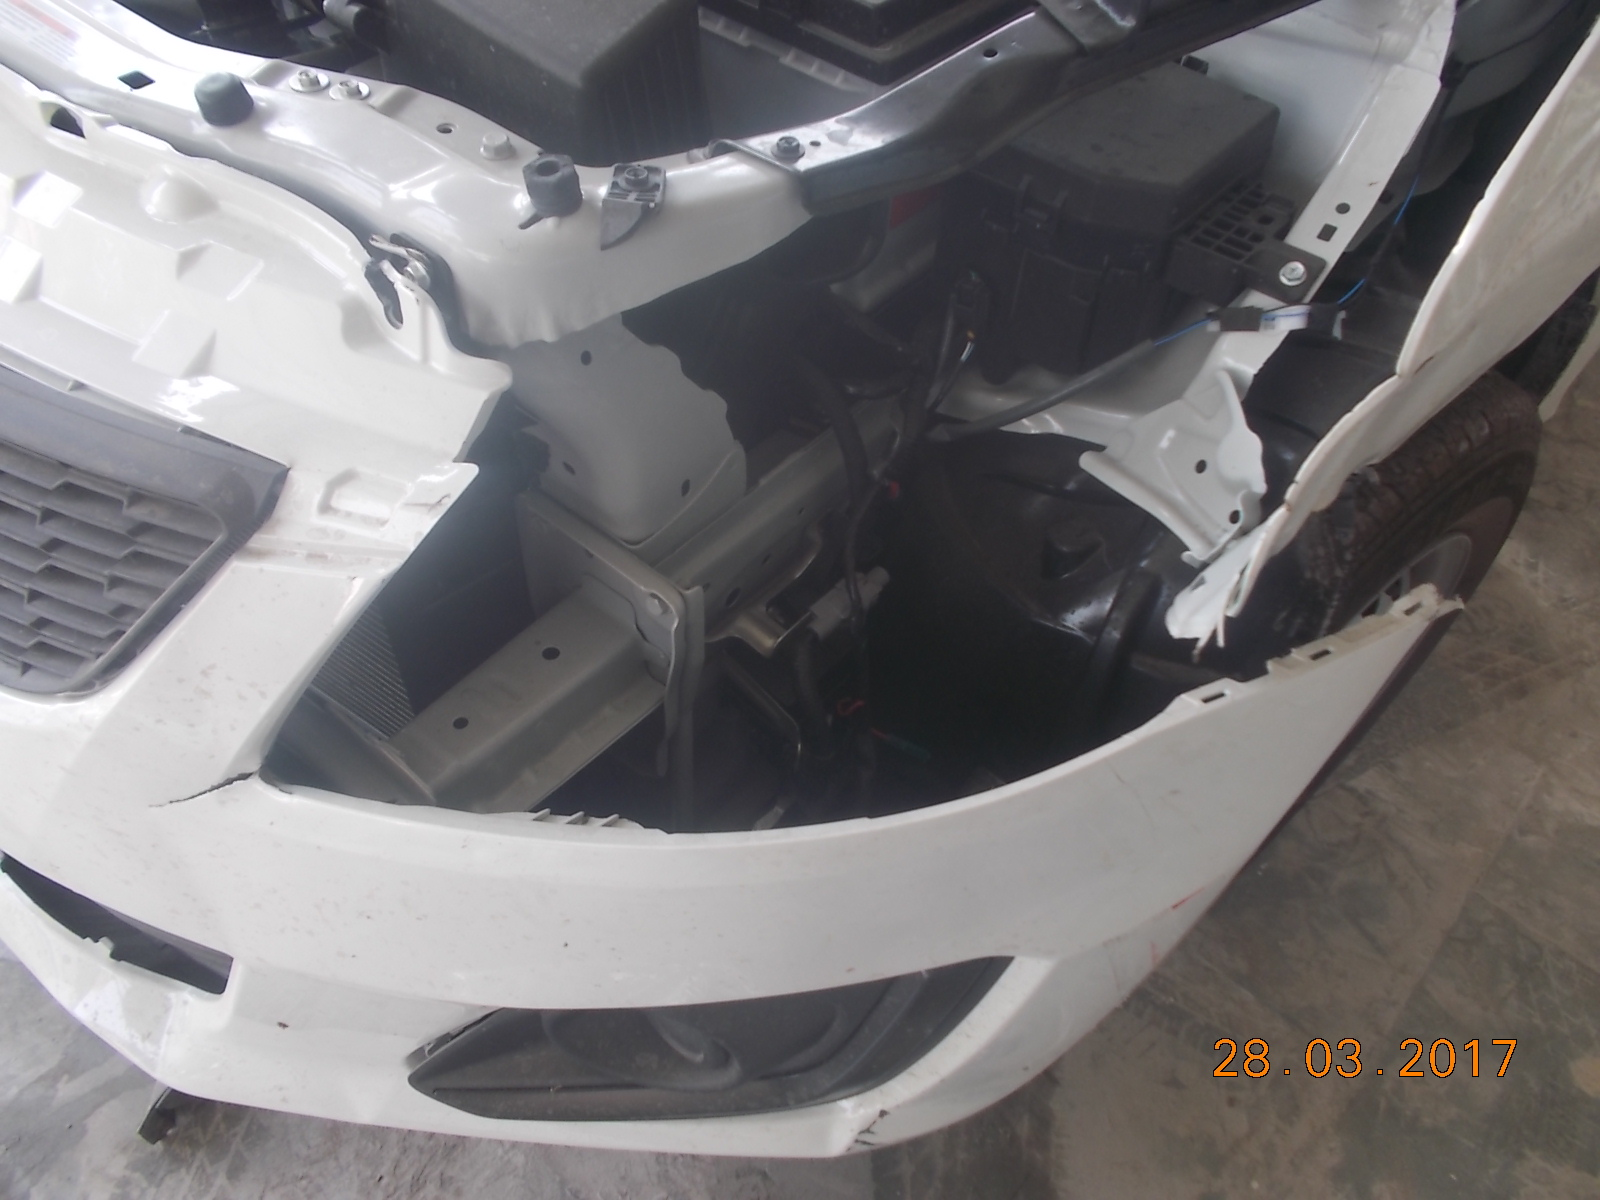Dislocation: (1188, 402, 1500, 661)
